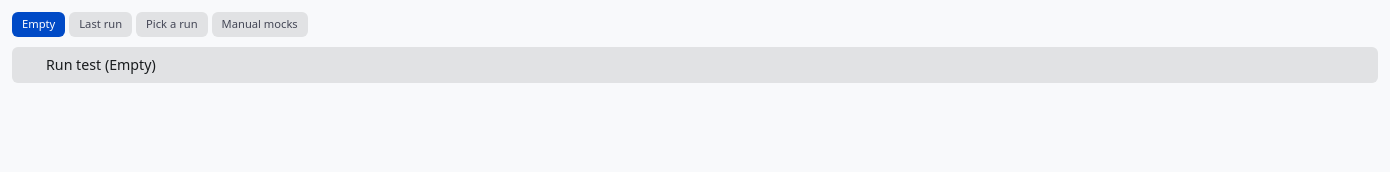
Test: StepTestPanel › Empty mode sends the complete live step and no mock variables
The image size is (1390, 172).
Click the button "Run test (Empty)" at (101, 64), box [12,46,1378,82]
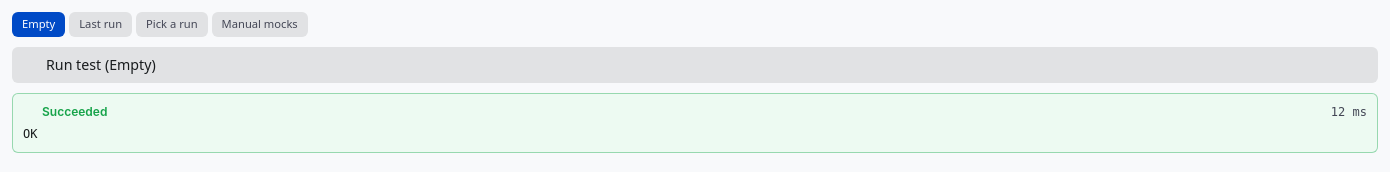
Expected: the text "Succeeded" is shown, [42,104,107,120]
